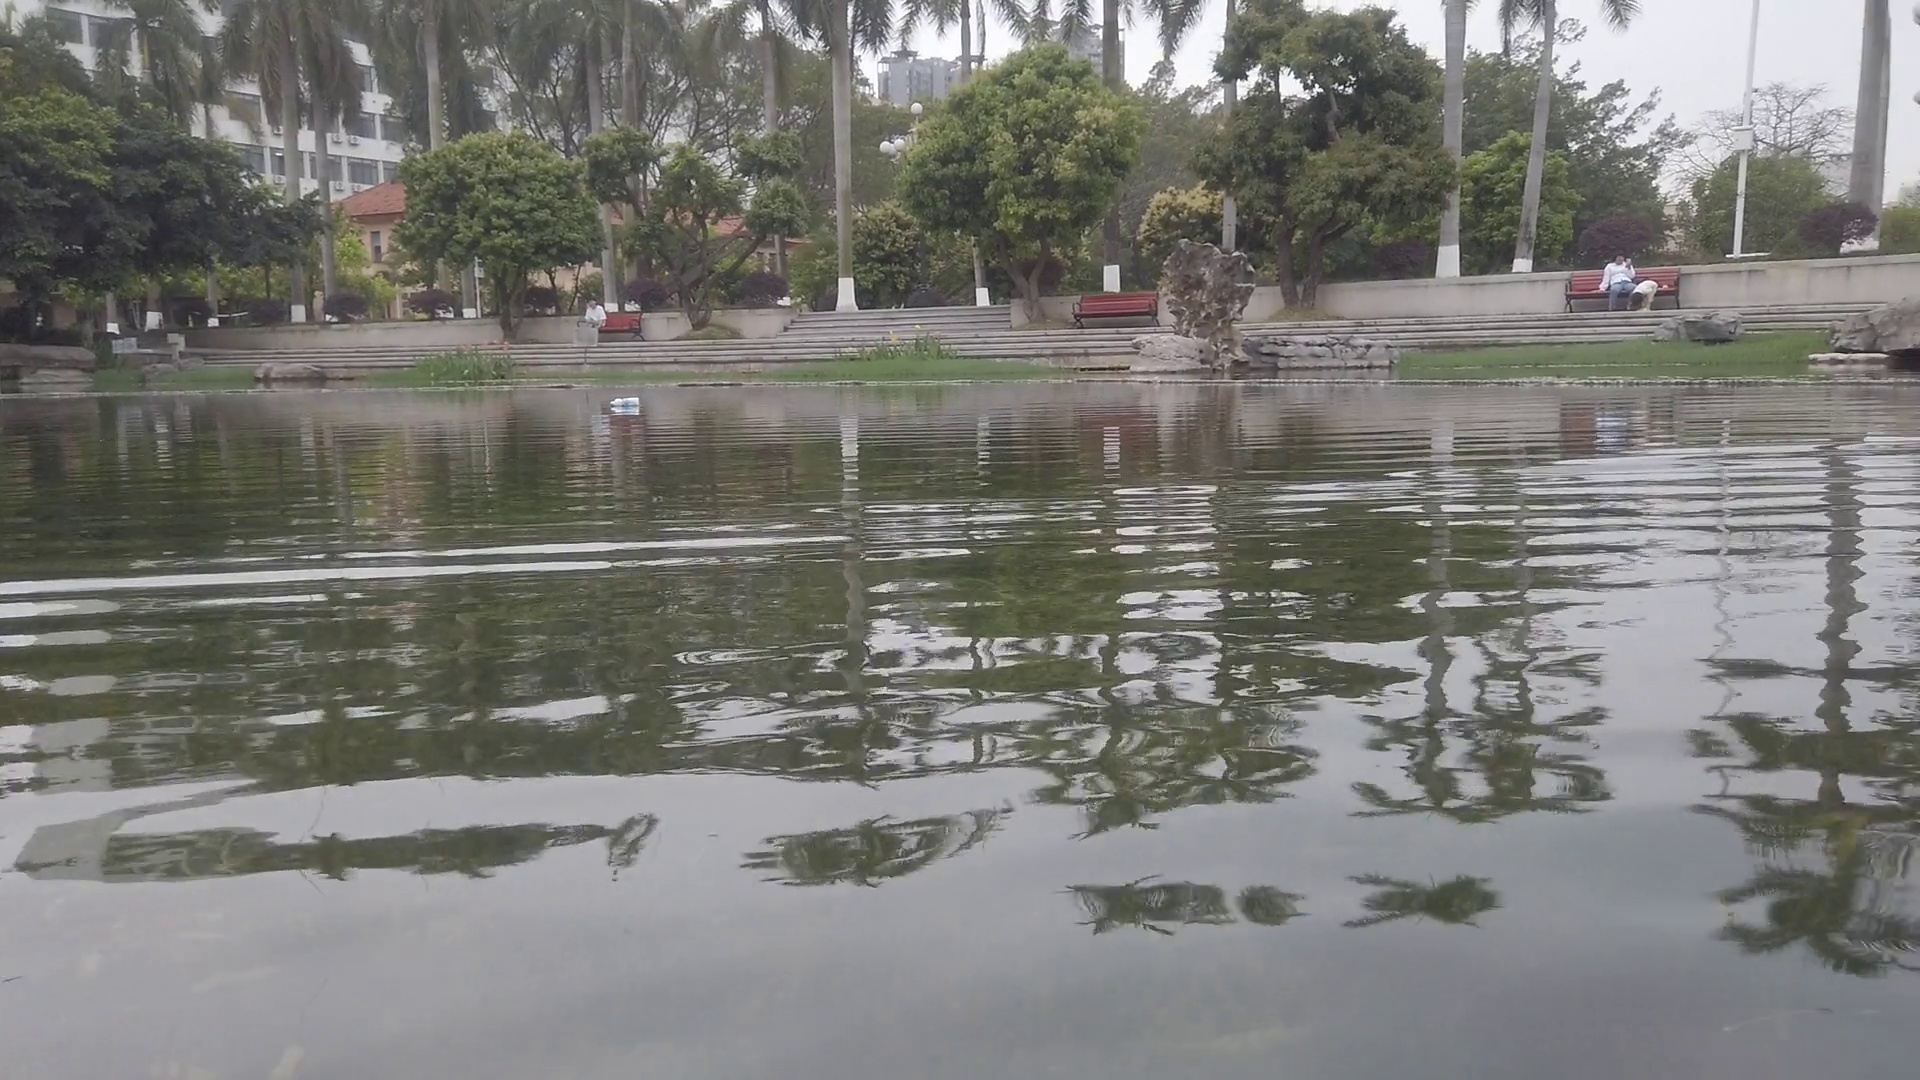bottle: (609, 396, 641, 407)
